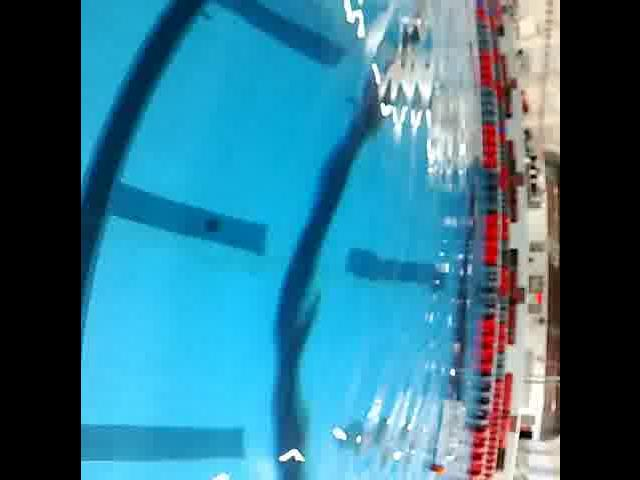Bottle: (424, 394, 470, 480)
